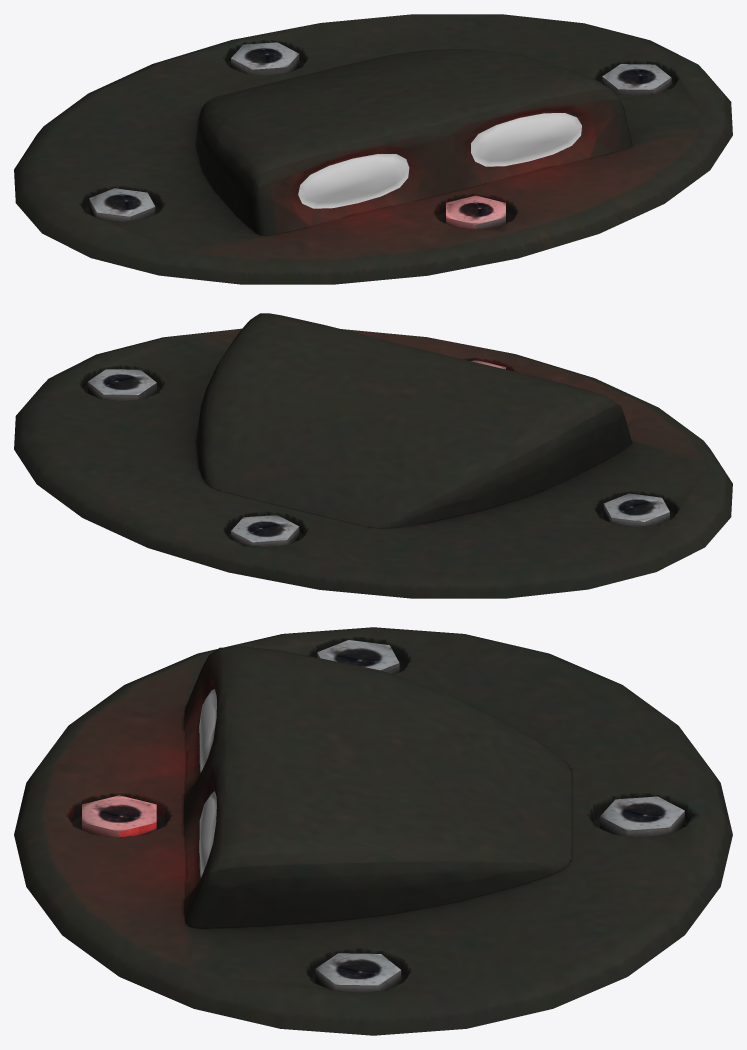
Rendered from unterflurfeuer_rot.fbx.
3 renders of one model, top to bottom at view 1: azimuth 30°, elevation 25°; view 2: azimuth 150°, elevation 25°; view 3: azimuth 270°, elevation 25°, orthographic. The views are drawn at different scales.
Visible parts, largest first — view 1: Mesh; view 2: Mesh; view 3: Mesh.
Part boxes in pixels (box(x1,y1,x2,y2)): Mesh: box(14, 14, 732, 284); Mesh: box(14, 313, 732, 598); Mesh: box(14, 627, 732, 1035).
Size of the model in its own units: 31.36 by 3.31 by 23.72.
